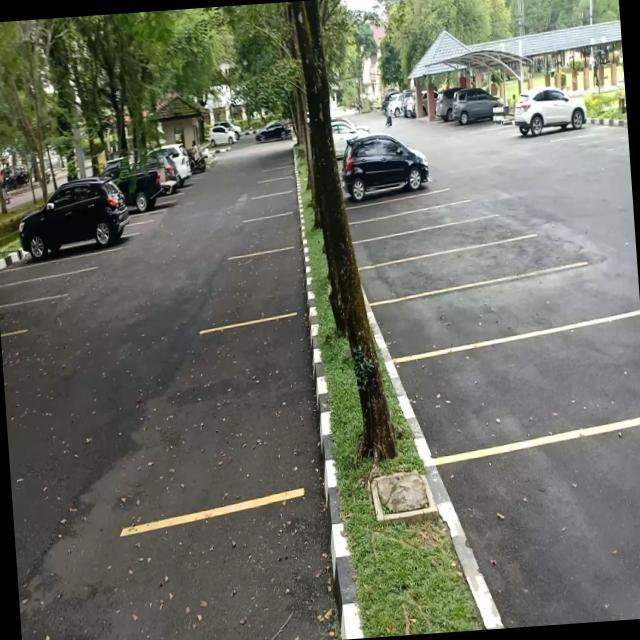empty: (484, 423, 640, 620), (168, 314, 322, 508), (407, 329, 640, 455), (386, 277, 577, 356), (364, 248, 518, 298), (350, 224, 506, 264), (224, 248, 306, 322), (346, 211, 471, 240), (346, 196, 462, 220), (0, 271, 80, 303), (241, 212, 301, 253), (1, 255, 94, 281), (248, 190, 298, 219)
occupied: (17, 207, 138, 260), (341, 156, 439, 207), (512, 105, 590, 144)
